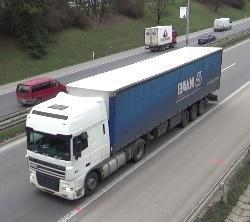Car: (197, 34, 216, 45)
Truck: (26, 47, 222, 201), (16, 75, 67, 108), (144, 23, 179, 52)
